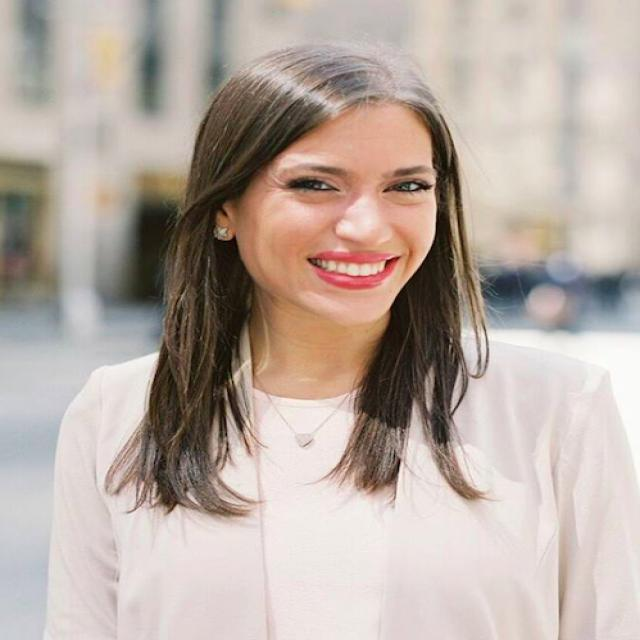mobile_phonerotation: (40, 39, 637, 639)
